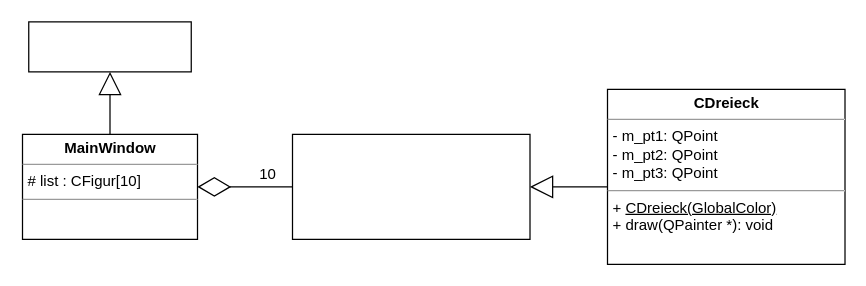
This 866x286 diagram has some shape labels left out. The shapes that lost their labels are listed below. From the top down, each one's centre as x and y in pixels, then its label:
At [109,46]: "QMainWindow".
At [410,186]: "CFigur # m_pen: GlobalColor + CFigur(GlobalColor)".
